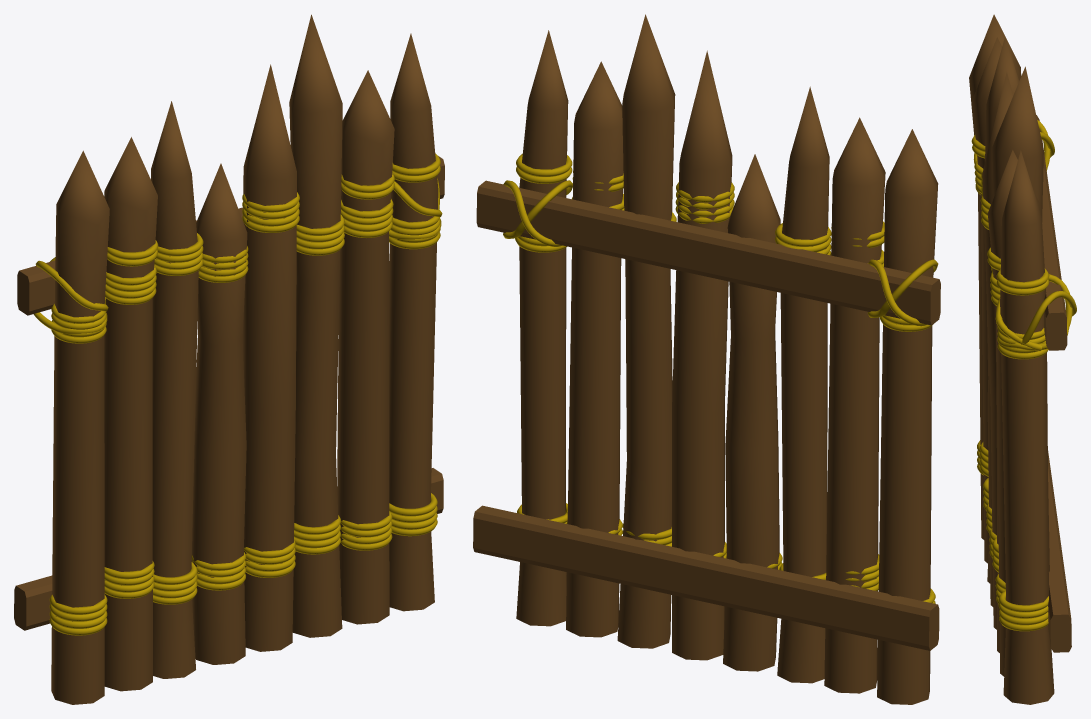
The model's file is Fence.fbx.
3 views of the same model, side by side, from view 1: azimuth 30°, elevation 25°; view 2: azimuth 150°, elevation 25°; view 3: azimuth 270°, elevation 25° (orthographic). The views are drawn at different scales.
Parts seen in each view (by area): view 1: BezierCircle.052; view 2: BezierCircle.052; view 3: BezierCircle.052.
Boxes of the visible parts, x1=… form: BezierCircle.052: x1=14, y1=14, x2=444, y2=704; BezierCircle.052: x1=473, y1=14, x2=940, y2=704; BezierCircle.052: x1=969, y1=14, x2=1076, y2=704.
Size of the model in its own units: 300 by 406 by 68.09.
